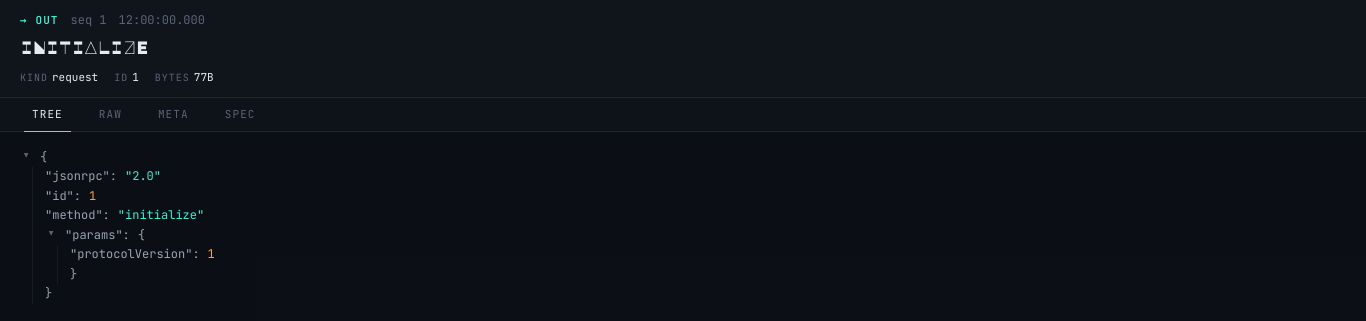
DetailPanel — tab switching › clicking Raw switches to raw view
This screenshot has width=1366, height=321.
Click the button "Raw" at (110, 114), box [83,98,138,130]
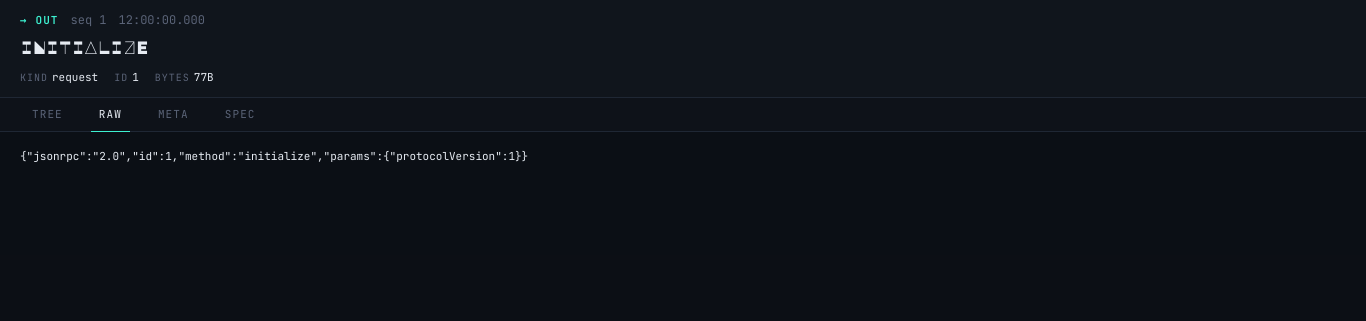
expect the text "{\"jsonrpc\":\"2.0\",\"id\":1,\"method\":\"initialize\",\"params\":{\"protocolVersion\":1}}" is shown: met, box [20,148,528,162]
